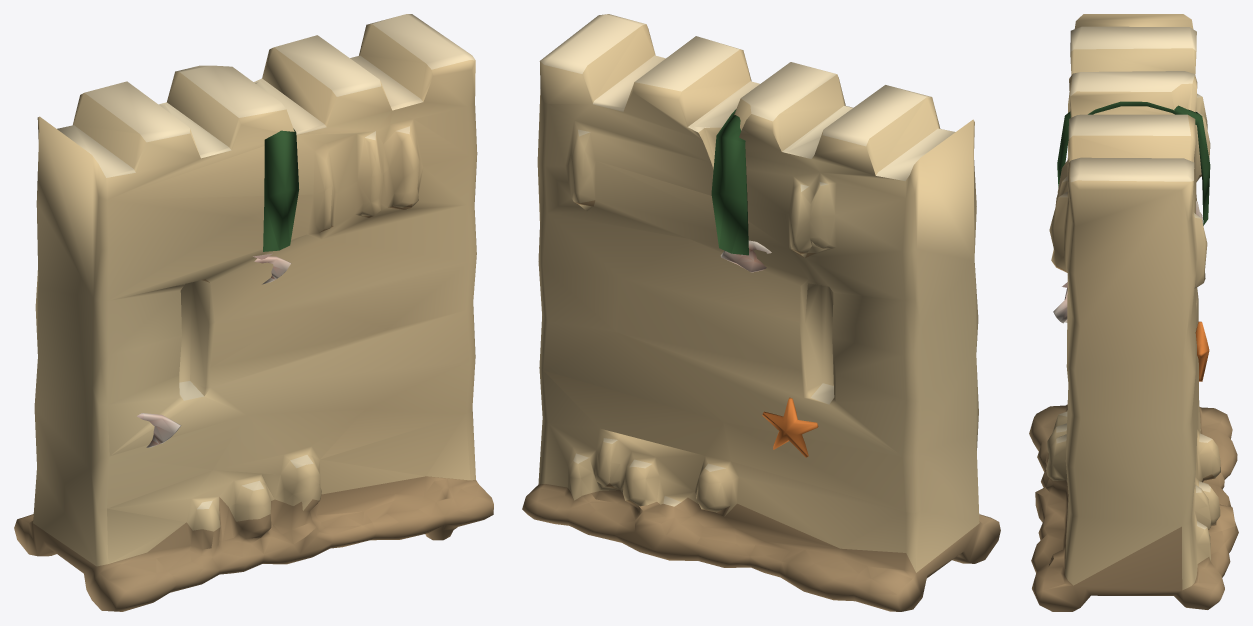
The model's file is shore_castle_wall_b_lod1.glb.
3 renders of one model, left to right at view 1: azimuth 30°, elevation 25°; view 2: azimuth 150°, elevation 25°; view 3: azimuth 270°, elevation 25°, orthographic. The views are drawn at different scales.
Visible parts, largest first — view 1: shore_castle_wall_b.001; view 2: shore_castle_wall_b.001; view 3: shore_castle_wall_b.001.
Boxes of the visible parts, x1=… form: shore_castle_wall_b.001: x1=14, y1=14, x2=493, y2=611; shore_castle_wall_b.001: x1=522, y1=14, x2=1000, y2=611; shore_castle_wall_b.001: x1=1029, y1=14, x2=1238, y2=611.
Size of the model in its own units: 10.01 by 11.83 by 4.98.
